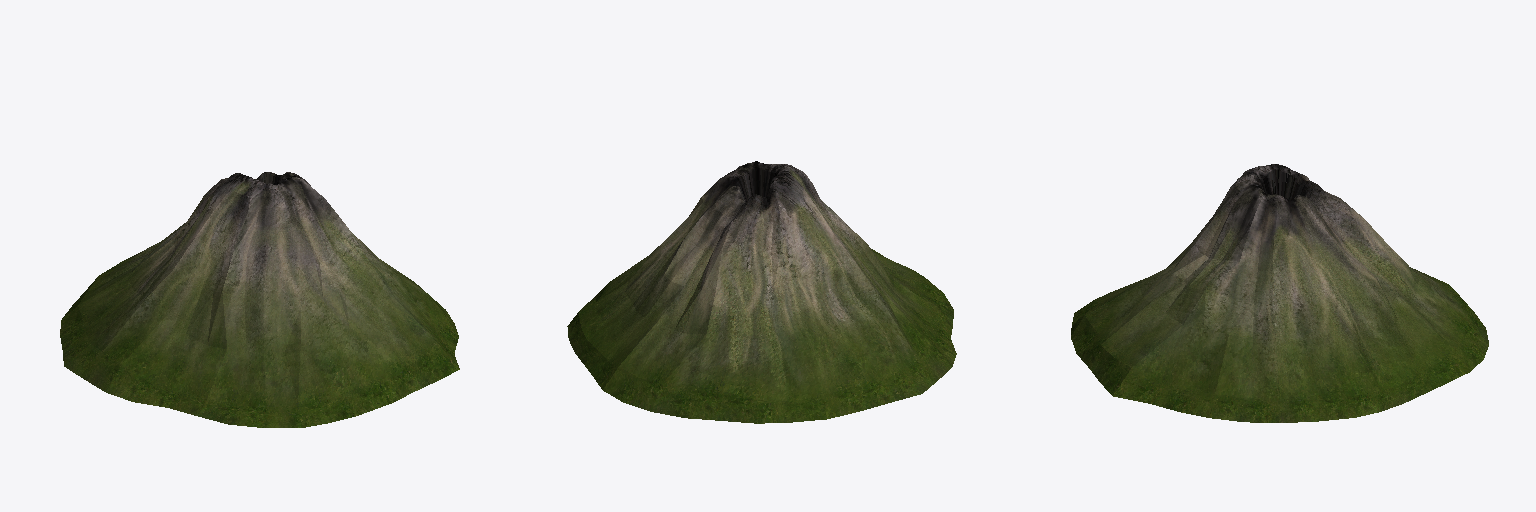
The picture shows the model from 3 angles: view 1: azimuth 30°, elevation 25°; view 2: azimuth 150°, elevation 25°; view 3: azimuth 270°, elevation 25°; orthographic projection.
Bounding box in the file's own units: 7.54 × 3.53 × 7.89.
Materials: 1 (1 with a texture image).